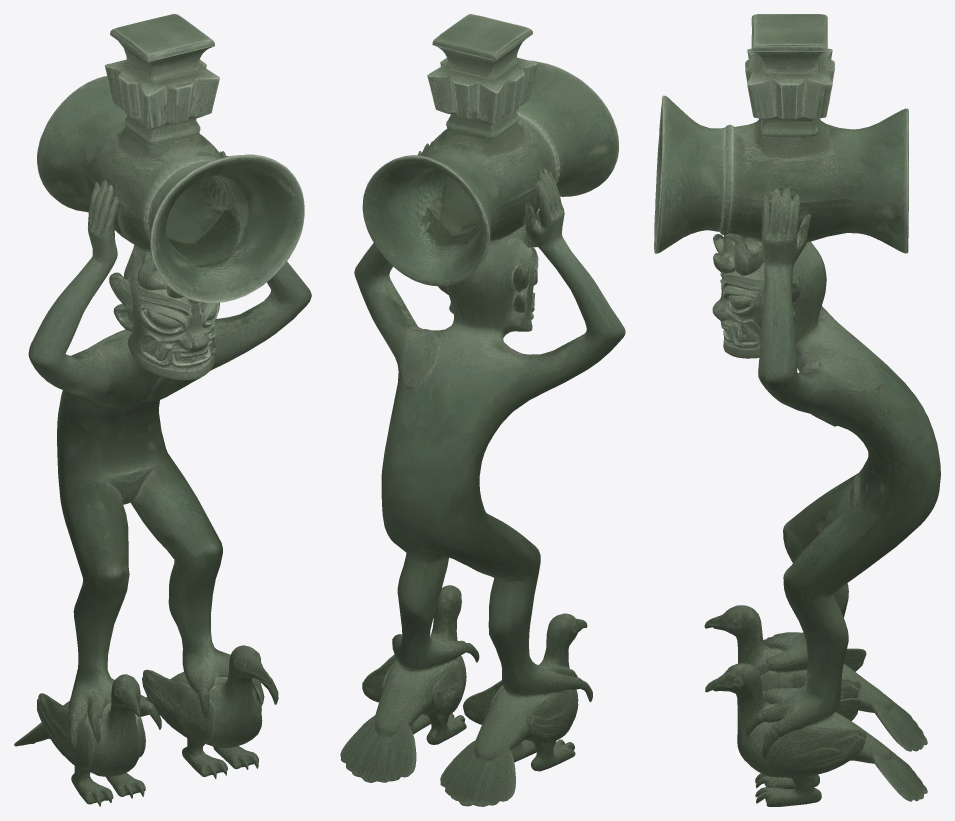
Rendered from bird.glb.
The picture shows the model from 3 angles, left to right: view 1: azimuth 30°, elevation 25°; view 2: azimuth 150°, elevation 25°; view 3: azimuth 270°, elevation 25°; orthographic projection. The views are drawn at different scales.
Size of the model in its own units: 0.7429 by 1.9 by 0.6683.
1 material, 1 textured.
